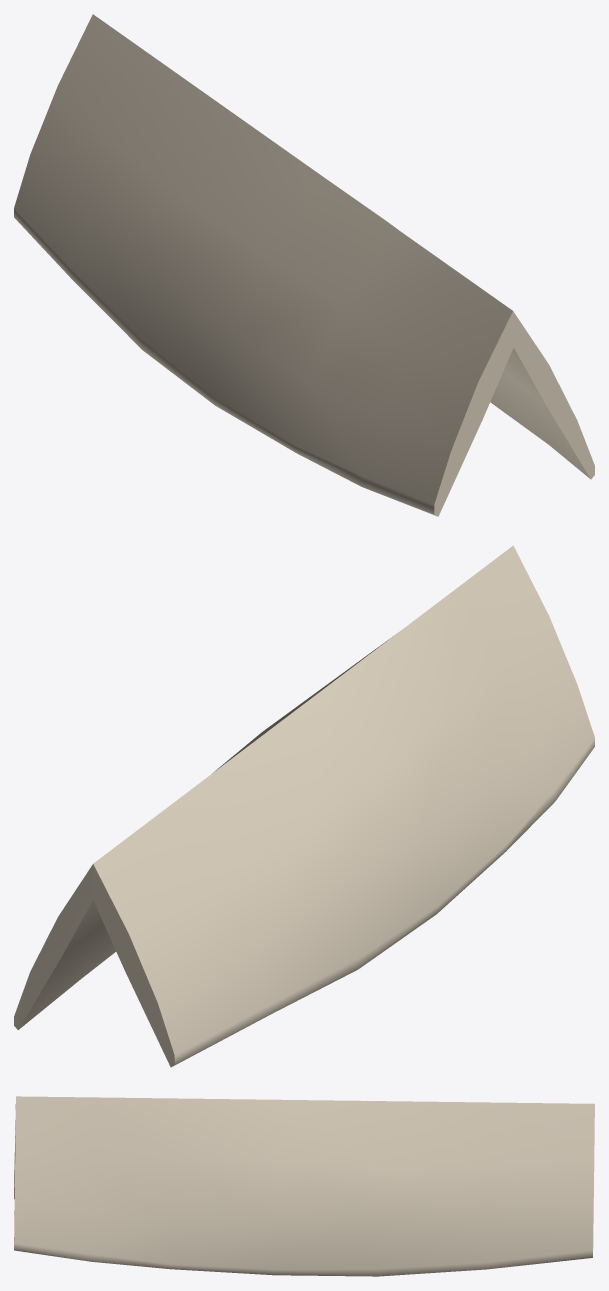
Rendered from baselinethatchroof-base.glb.
3 renders of one model, top to bottom at view 1: azimuth 30°, elevation 25°; view 2: azimuth 150°, elevation 25°; view 3: azimuth 270°, elevation 25°, orthographic. The views are drawn at different scales.
Size of the model in its own units: 1.17 by 1.04 by 3.76.
